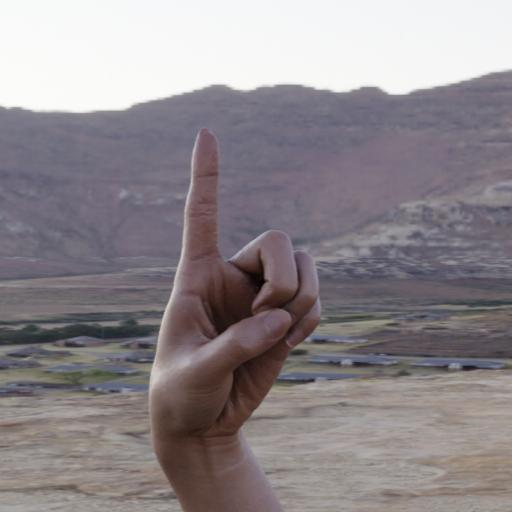D: (137, 116, 338, 504)
